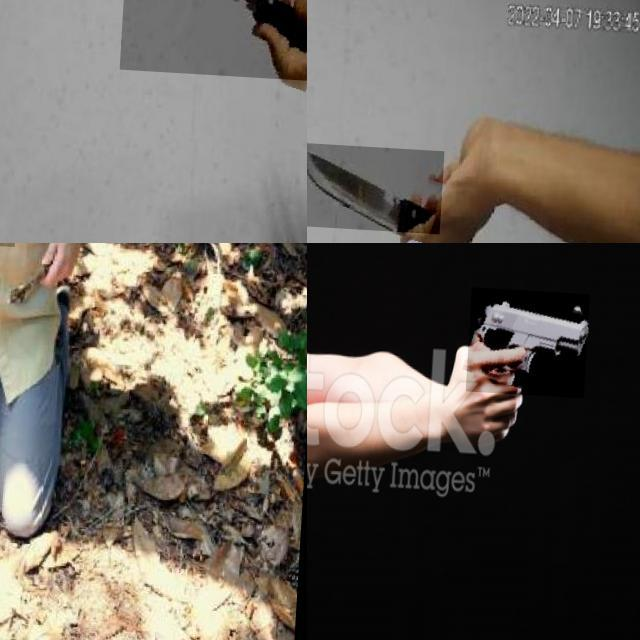-: (122, 0, 307, 77), (307, 137, 447, 229), (0, 243, 35, 283)
gun-knife-thesis - v11 Yolov5 augmented: (470, 282, 593, 391)
